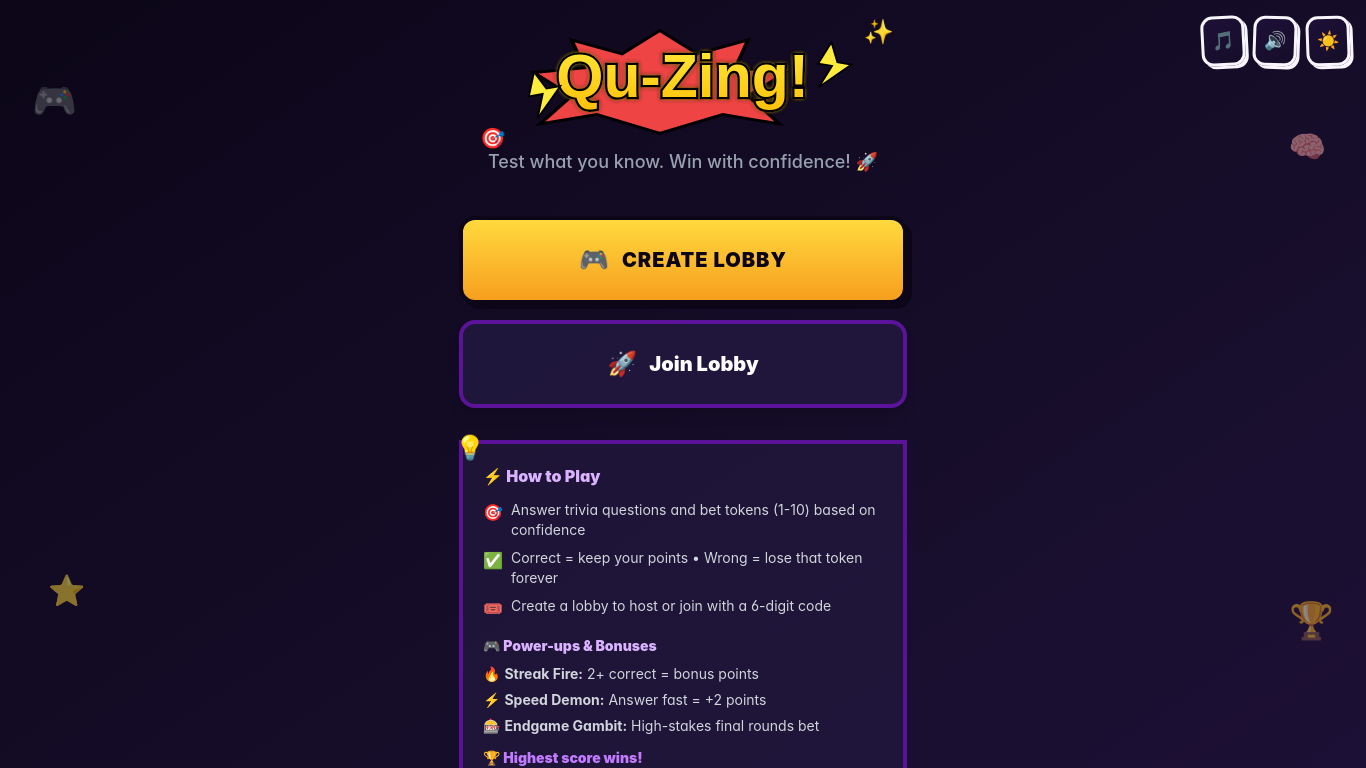
BrowserLobby Component › Join Mode › should switch to join mode when clicking join button
What coordinates should you click on to do the following:
click the button "🚀 Join Lobby"
I would click on:
 (683, 364)
Its box is [459,320,907,408].
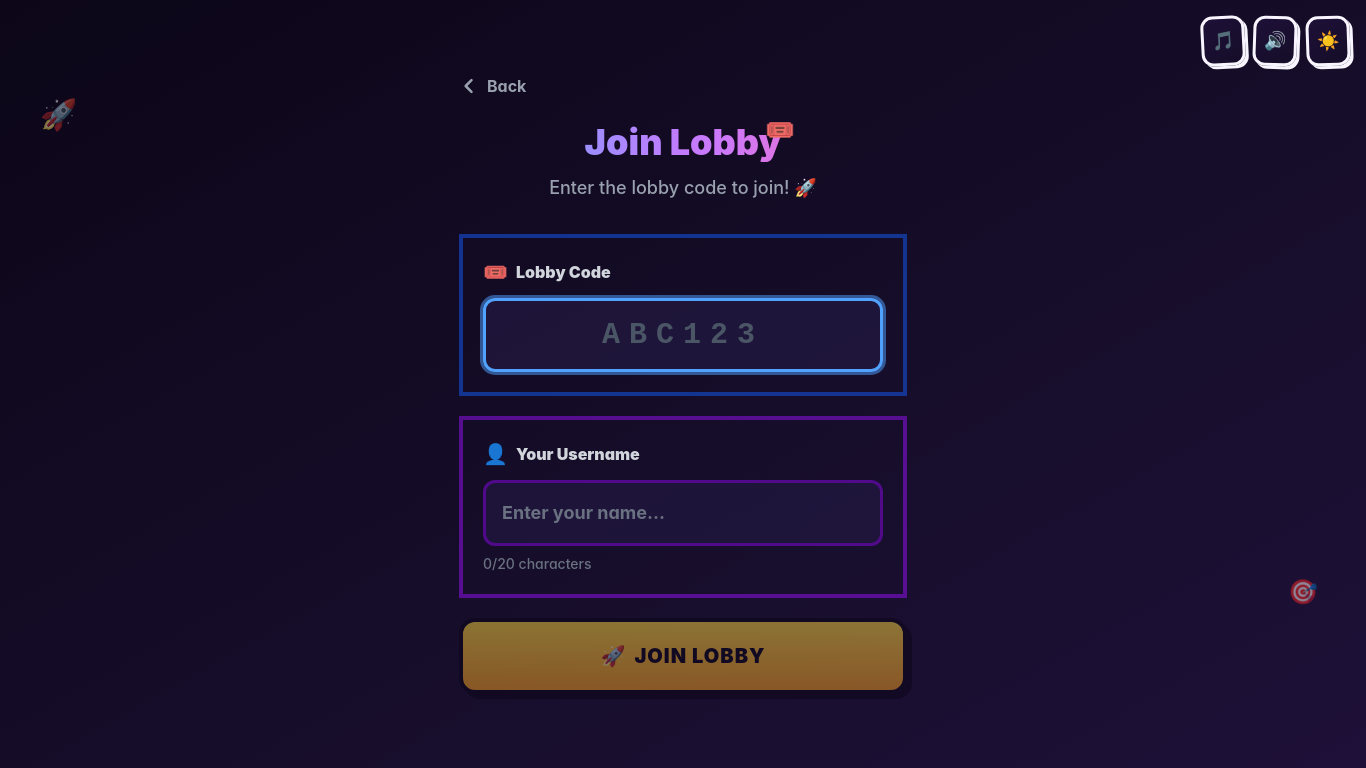
Expected: the heading "Join Lobby" is shown, [459,122,907,162]
Expected: the field with placeholder "ABC123" is shown, [483,298,883,372]
